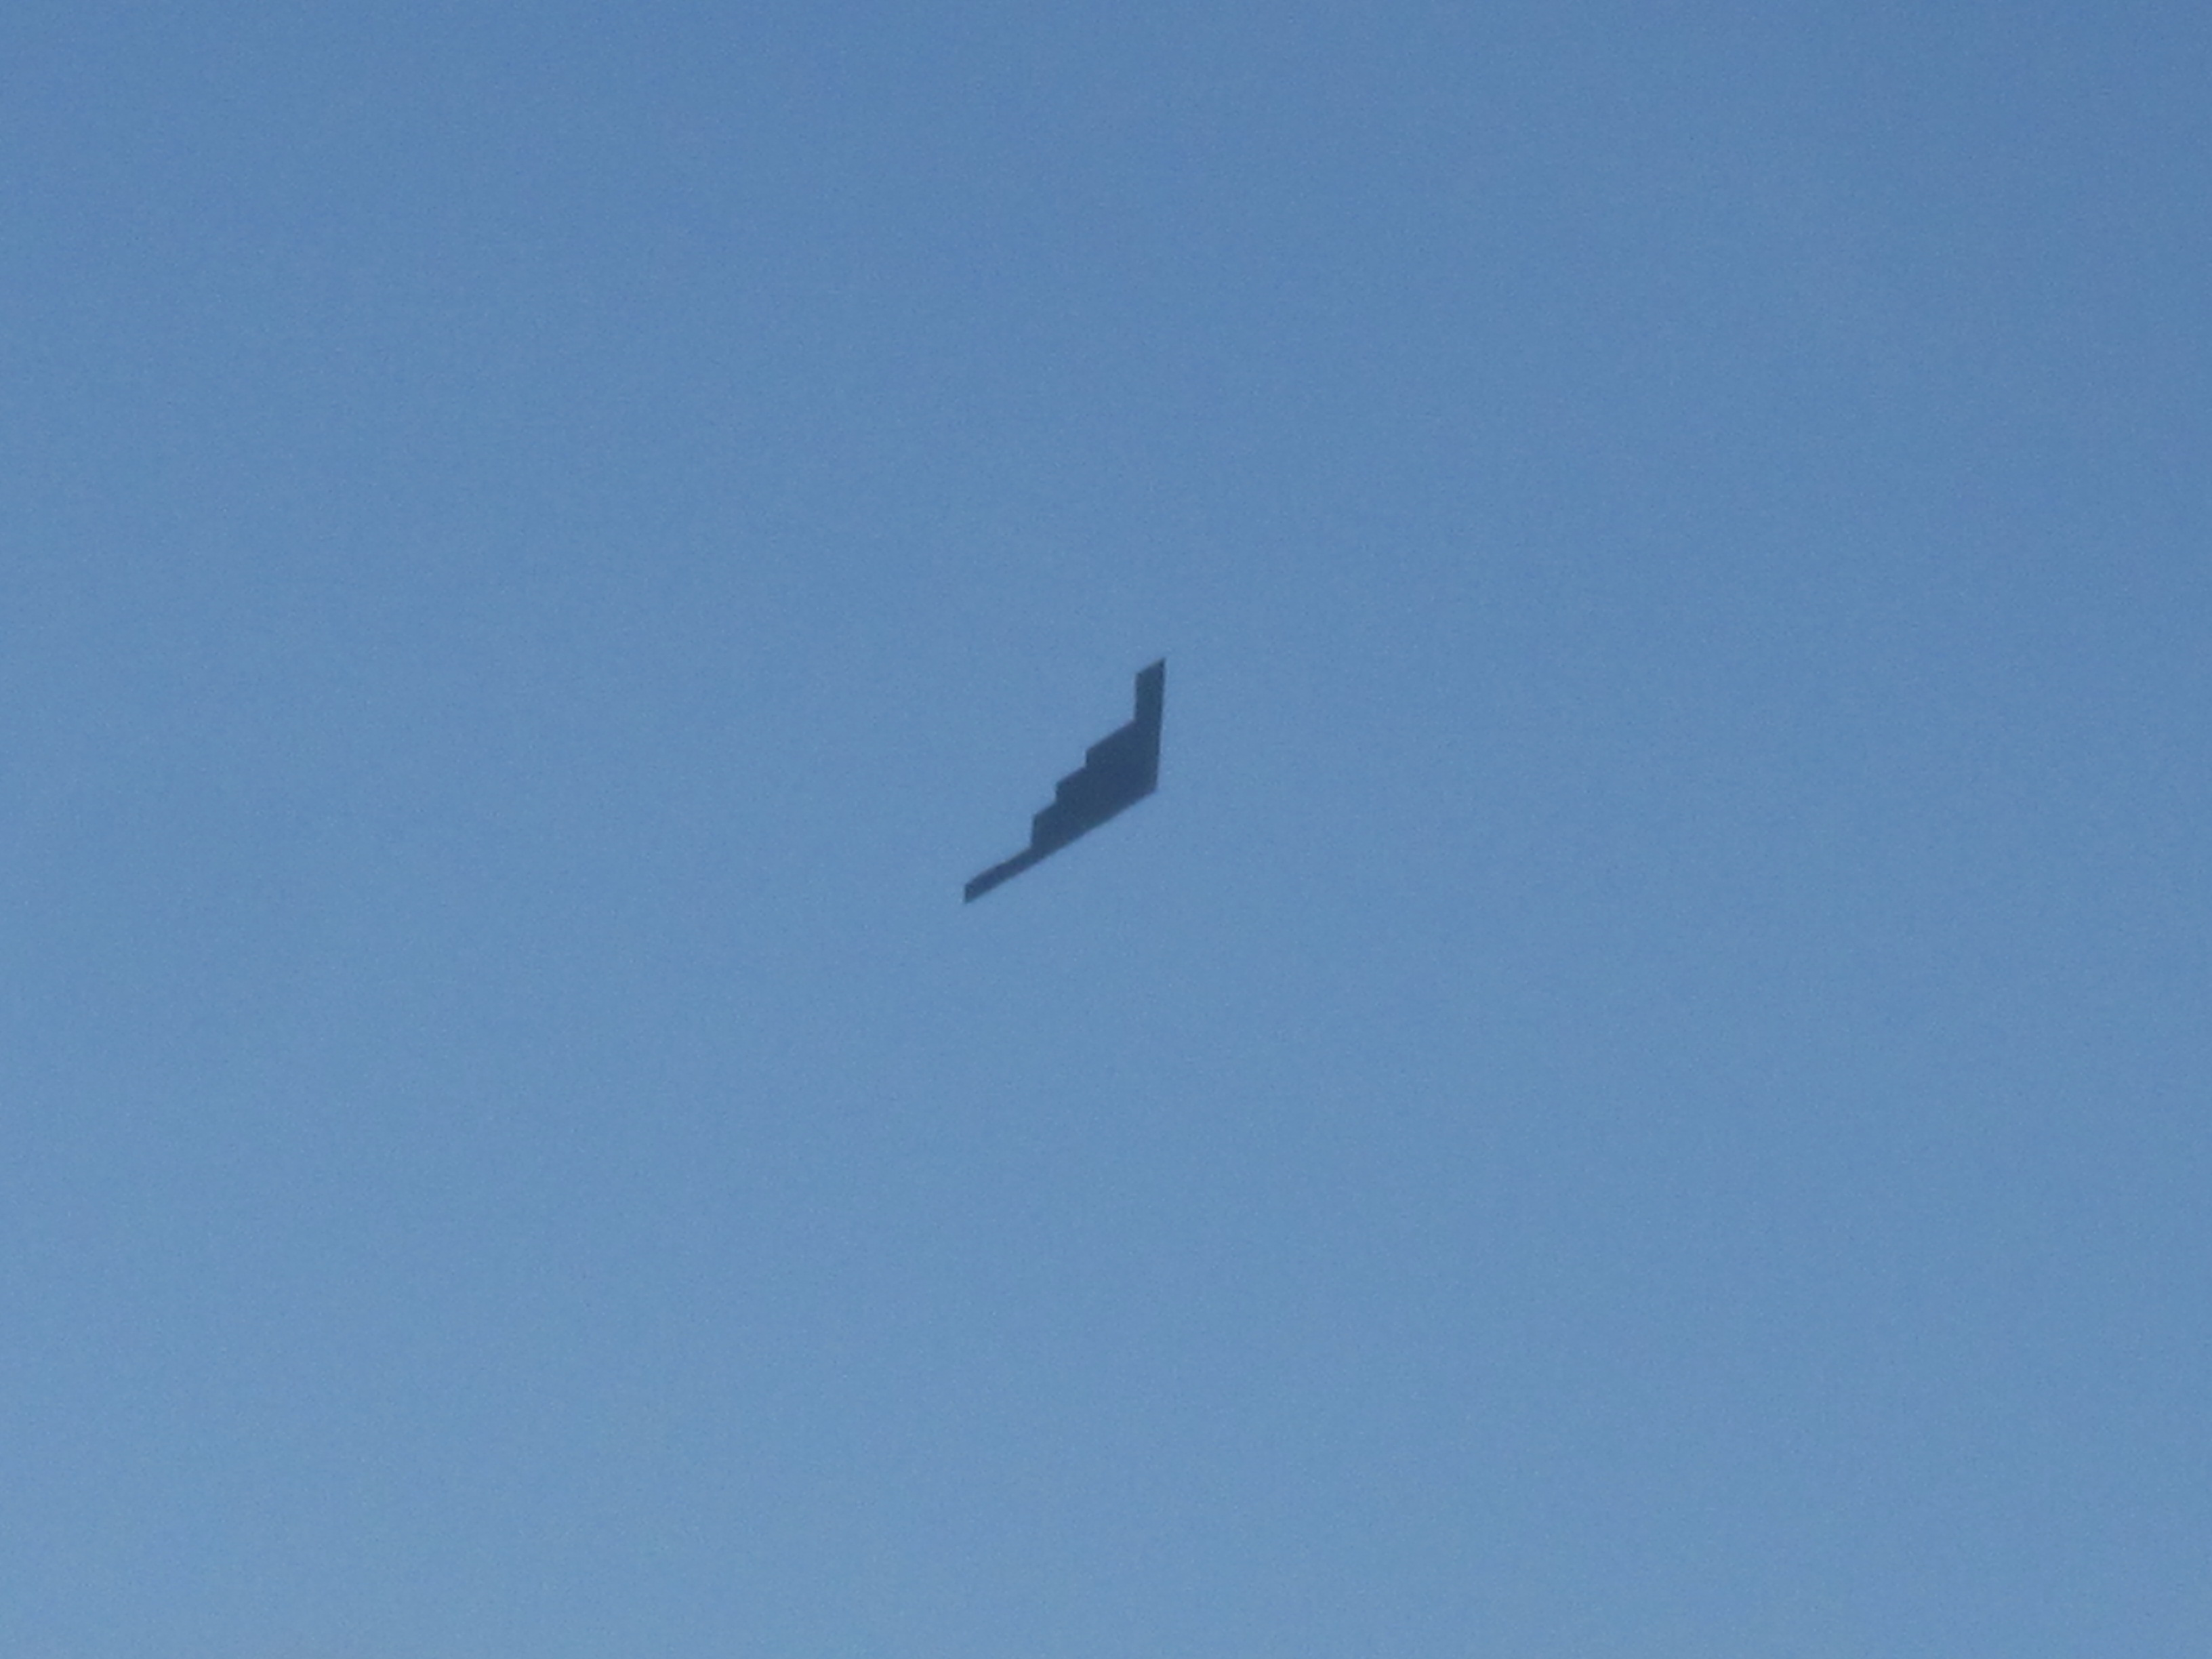B2: (963, 655, 1165, 906)
